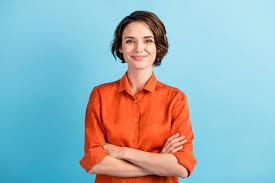person: (110, 8, 174, 83)
